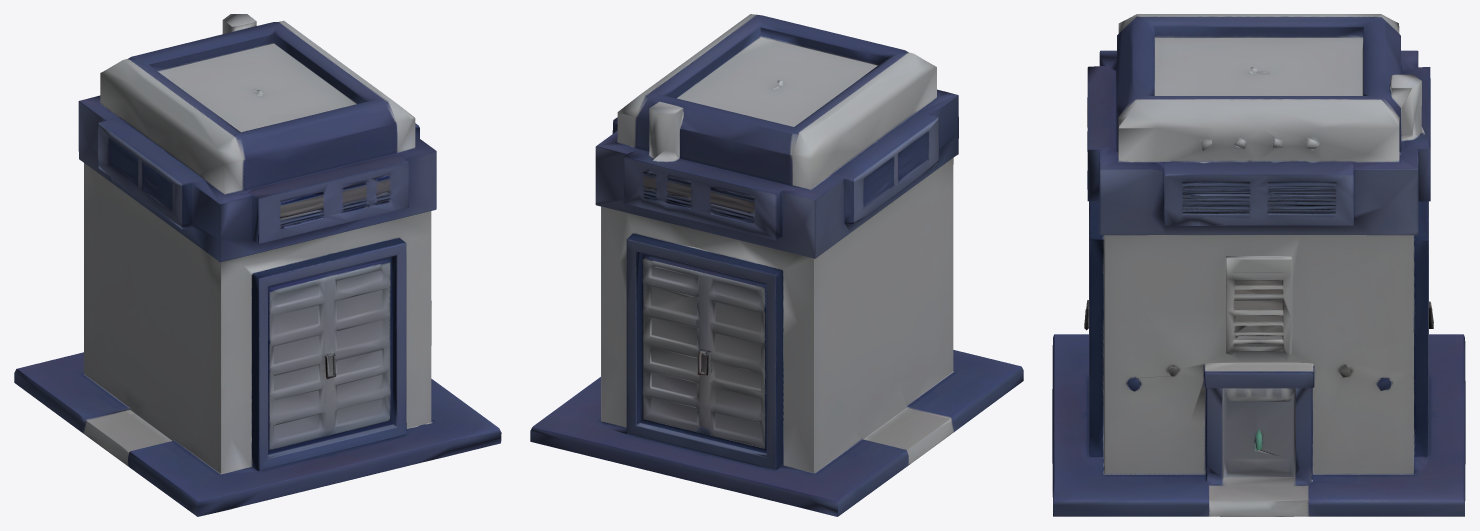
Rendered from SM_Bld_ComputeCenter_01.glb.
3 renders of one model, left to right at view 1: azimuth 30°, elevation 25°; view 2: azimuth 150°, elevation 25°; view 3: azimuth 270°, elevation 25°, orthographic. The views are drawn at different scales.
Parts seen in each view (by area): view 1: tripo_node_f828c618-545c-49cf-b37b-2c232696b655; view 2: tripo_node_f828c618-545c-49cf-b37b-2c232696b655; view 3: tripo_node_f828c618-545c-49cf-b37b-2c232696b655.
Part boxes in pixels (x1,y1,x2,y2): tripo_node_f828c618-545c-49cf-b37b-2c232696b655: [14, 14, 501, 516]; tripo_node_f828c618-545c-49cf-b37b-2c232696b655: [530, 14, 1023, 516]; tripo_node_f828c618-545c-49cf-b37b-2c232696b655: [1052, 14, 1465, 516].
Bounding box in the file's own units: 0.9515 × 0.9998 × 0.9926.
1 material, 1 textured.
